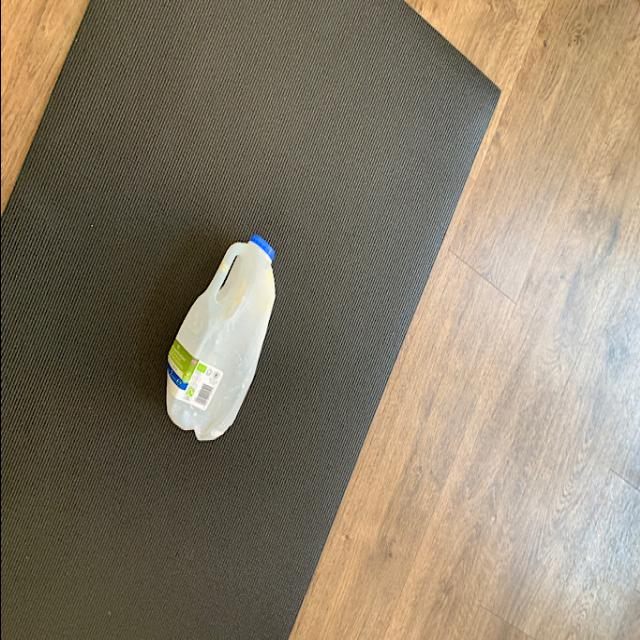litter: (157, 230, 280, 451)
